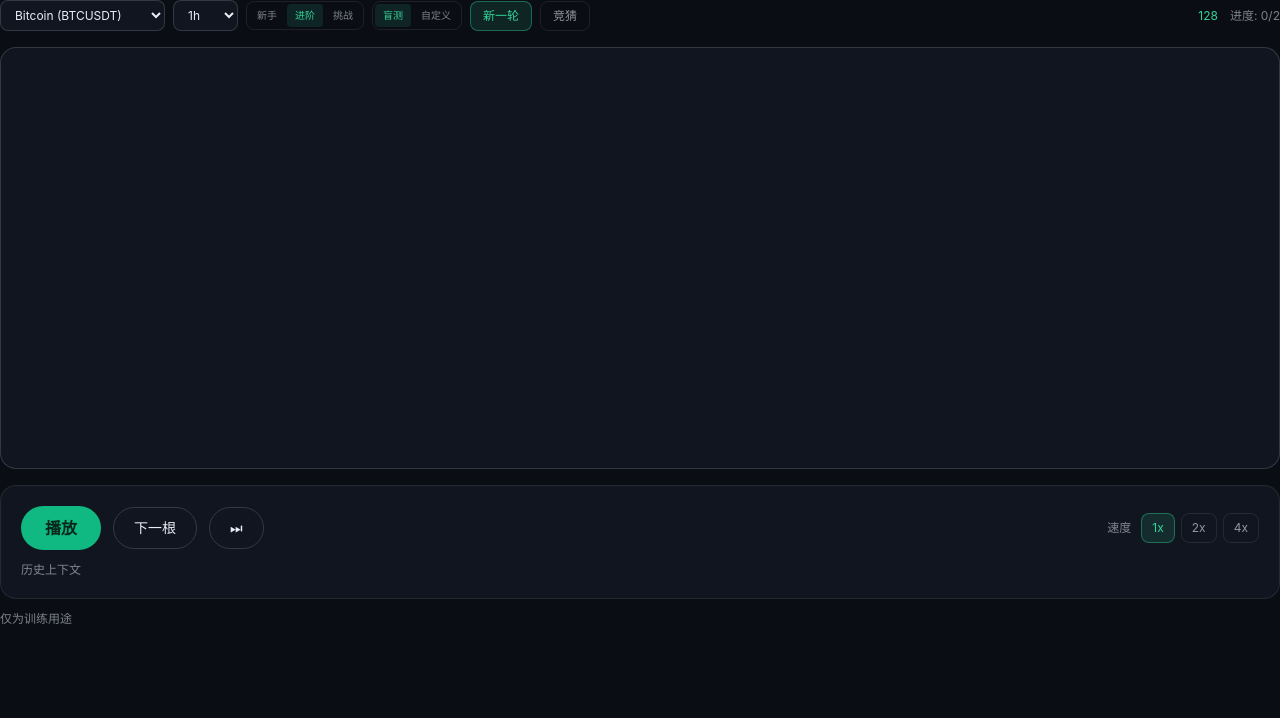
Test: ReplayTrainer 竞猜模式与战绩 › 全错时评价为 C 且最佳连胜为 0
Expected: the text "128 进度: 0/2" is shown, [1198, 8, 1279, 24]
Click the button "竞猜" at (565, 16), box [540, 0, 590, 30]
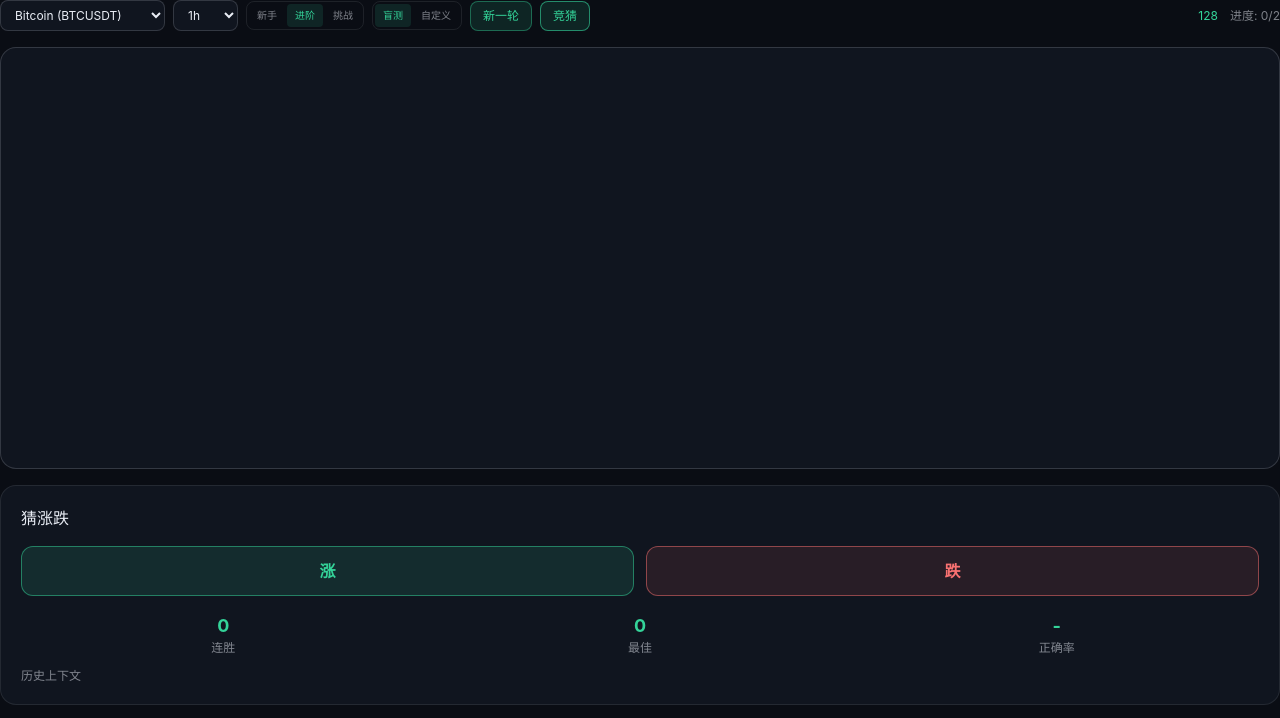
Click the button "涨" at (328, 571), box [21, 546, 634, 596]
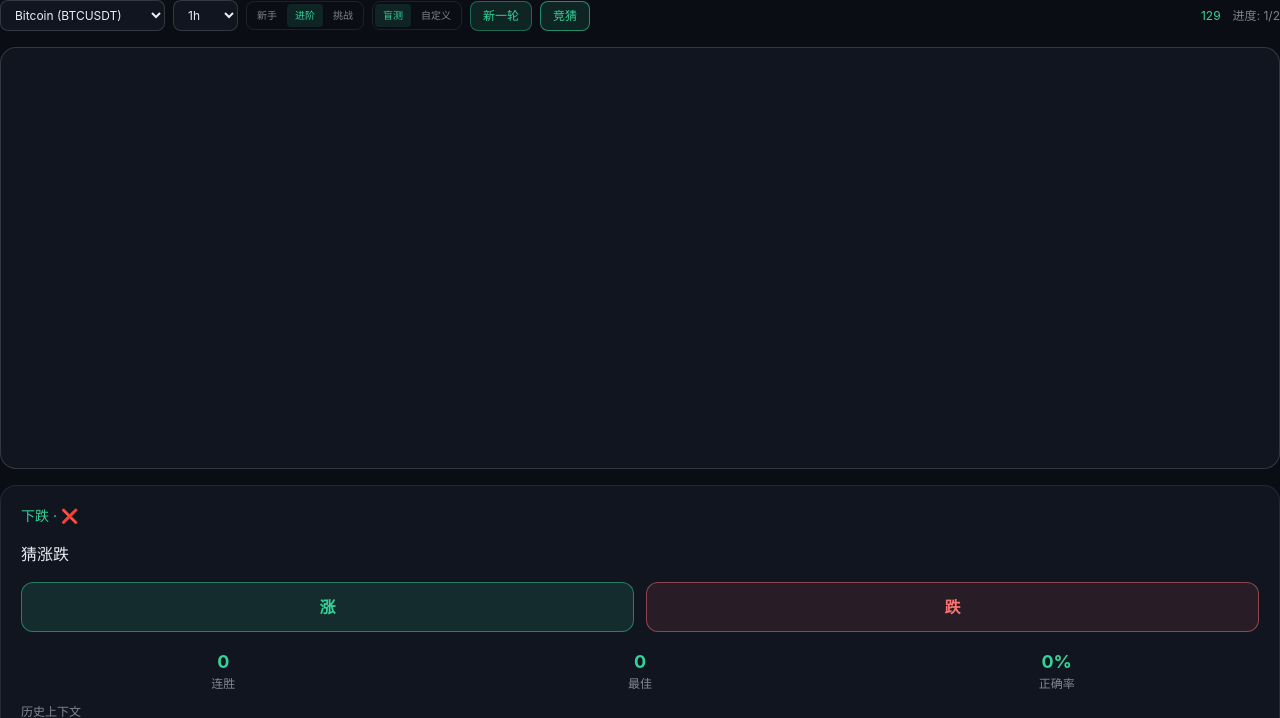
Now the text "129 进度: 1/2" is shown, box [1201, 8, 1279, 24]
Click the button "涨" at (328, 607), box [21, 582, 634, 632]
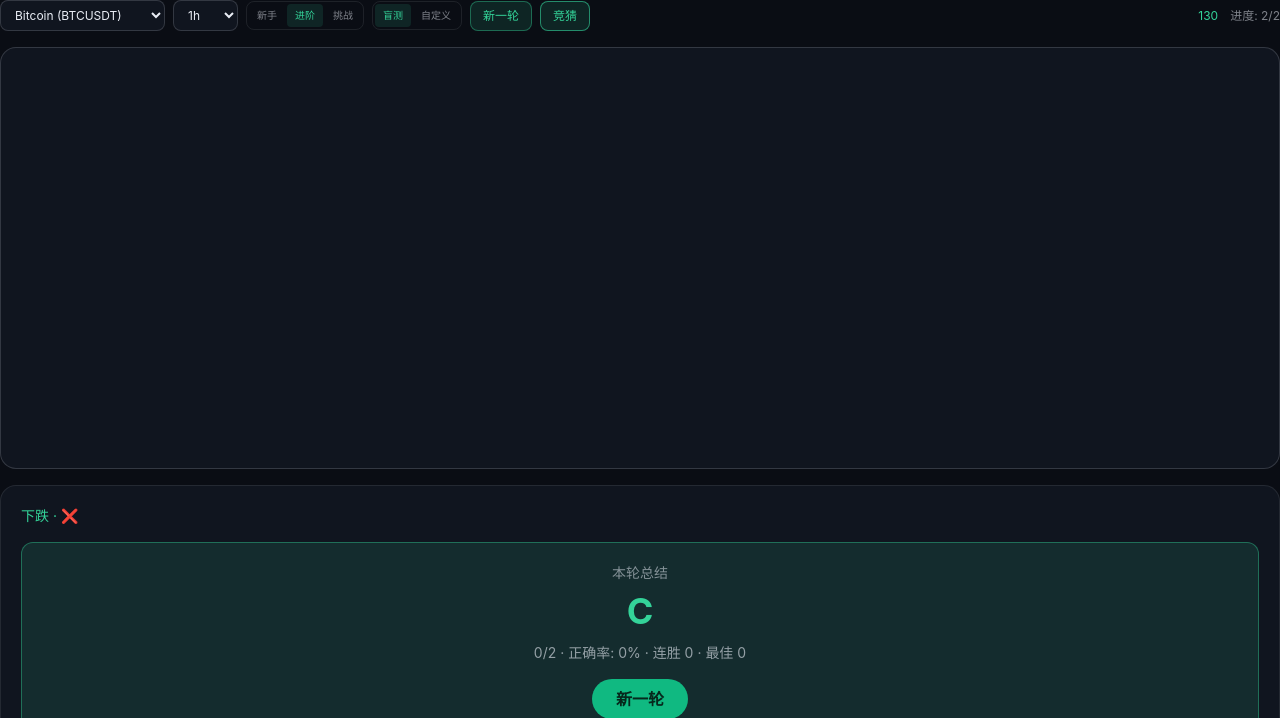
Now the text "130 进度: 2/2" is shown, box [1198, 8, 1279, 24]
Now the text "C" is shown, box [627, 589, 653, 633]
